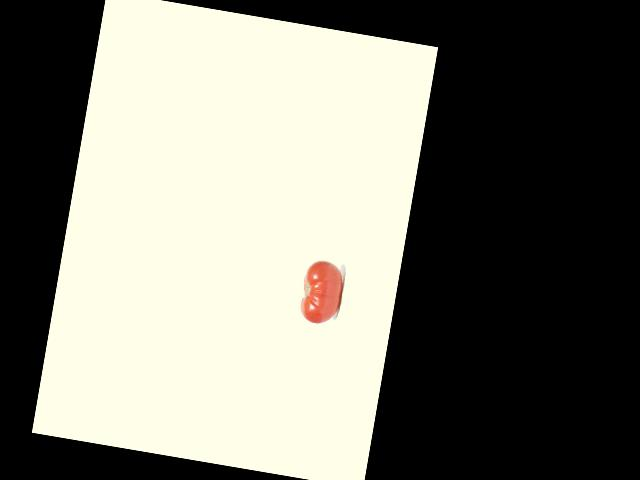tomato: (297, 258, 345, 327)
